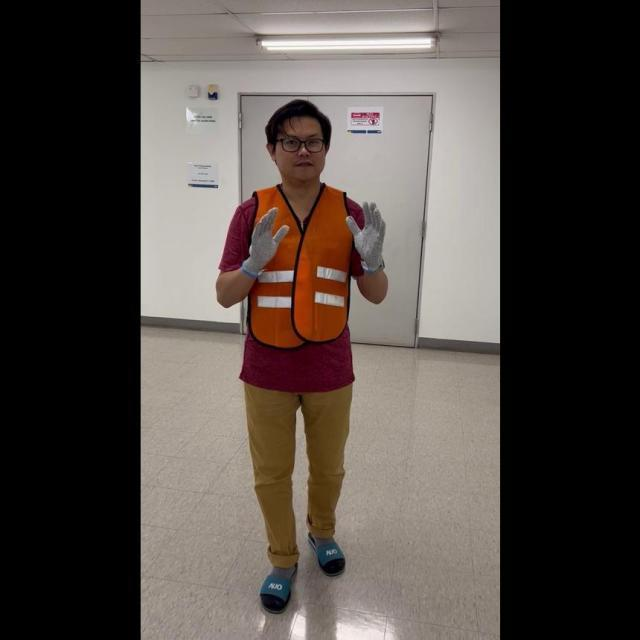gloved_hand: (239, 200, 289, 278), (345, 195, 387, 272)
